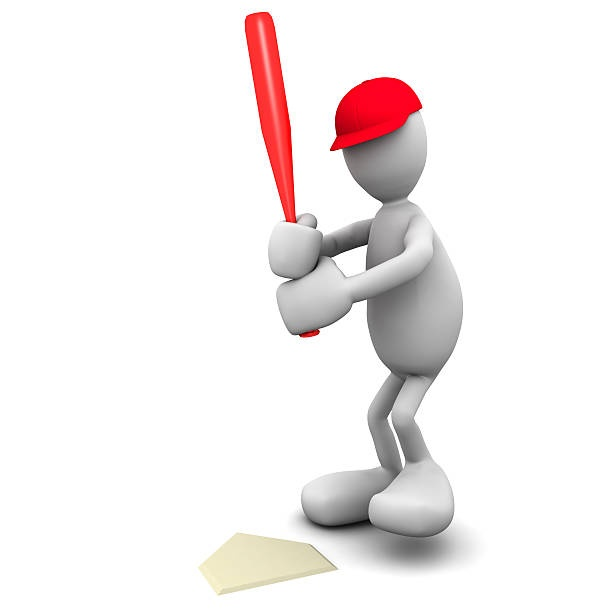bita: (247, 10, 305, 224)
